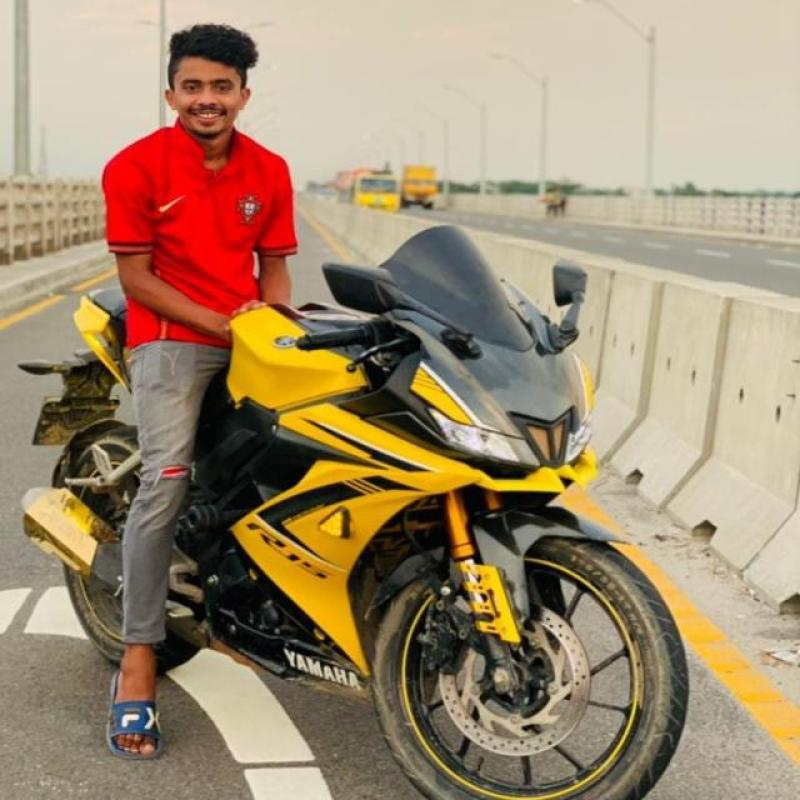nohelmet: (146, 34, 296, 140)
